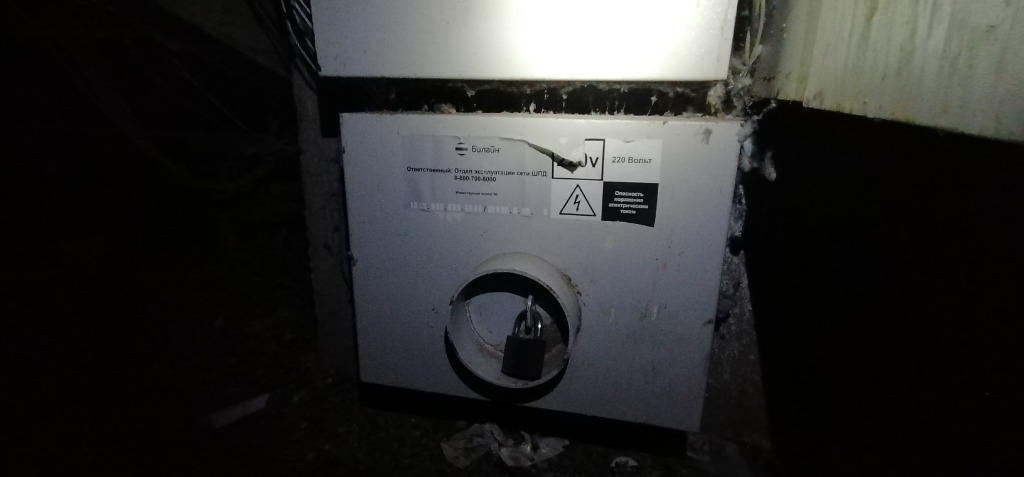shta-3: (333, 108, 751, 438)
